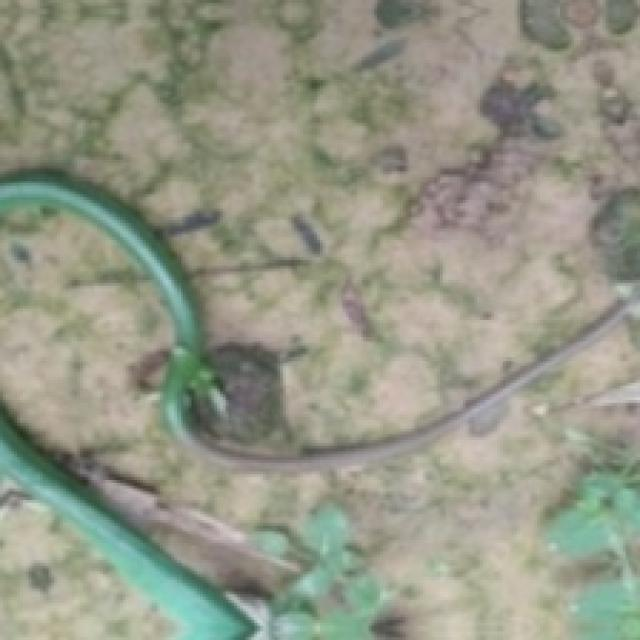red-tailed green ratsnake: (0, 171, 623, 469), (0, 404, 255, 640)
